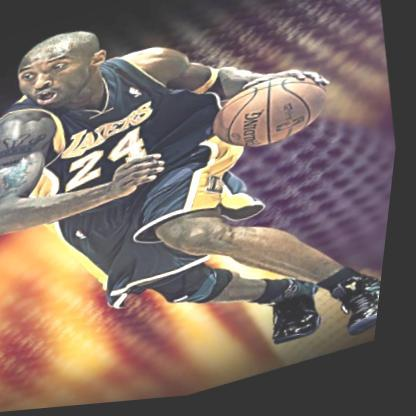basketball: (206, 69, 340, 164)
